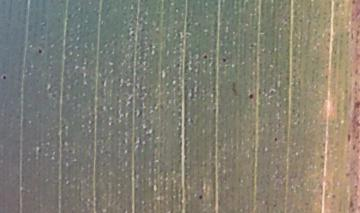tarspot: (246, 89, 255, 104), (195, 191, 207, 202), (219, 54, 229, 66), (271, 133, 280, 146), (201, 50, 209, 62), (36, 46, 44, 56), (1, 72, 8, 83)
